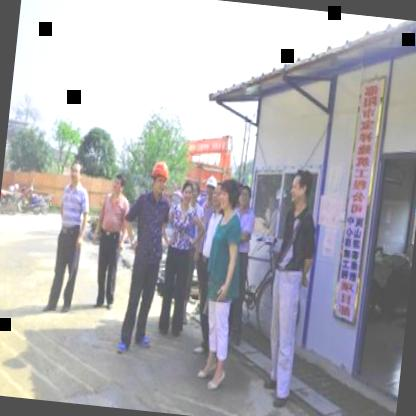head: (286, 164, 315, 214), (219, 172, 242, 214), (108, 168, 131, 196), (68, 152, 86, 187), (238, 180, 254, 208), (180, 178, 194, 204), (211, 180, 224, 206)
helmet: (148, 156, 172, 198), (202, 174, 218, 200)
